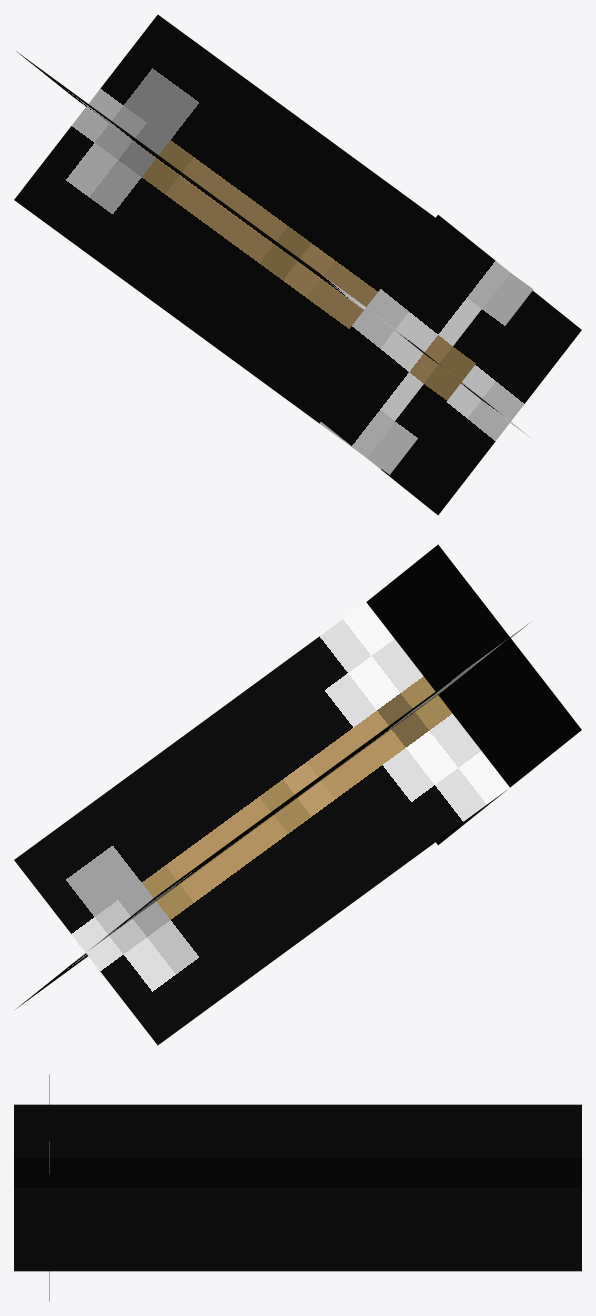
File: arrow_21.1.gltf
The picture shows the model from 3 angles, top to bottom: view 1: azimuth 30°, elevation 25°; view 2: azimuth 150°, elevation 25°; view 3: azimuth 270°, elevation 25°; orthographic projection. The views are drawn at different scales.
Parts seen in each view (by area): view 1: body (×3); view 2: body (×3); view 3: body (×2).
Part boxes in pixels (<box>): body (×3): <box>14,14,581,515</box>; body (×3): <box>14,544,581,1045</box>; body (×2): <box>14,1104,581,1271</box>.
Size of the model in its own units: 0.4419 by 0.4419 by 1.
Materials: 1 (1 with a texture image).
